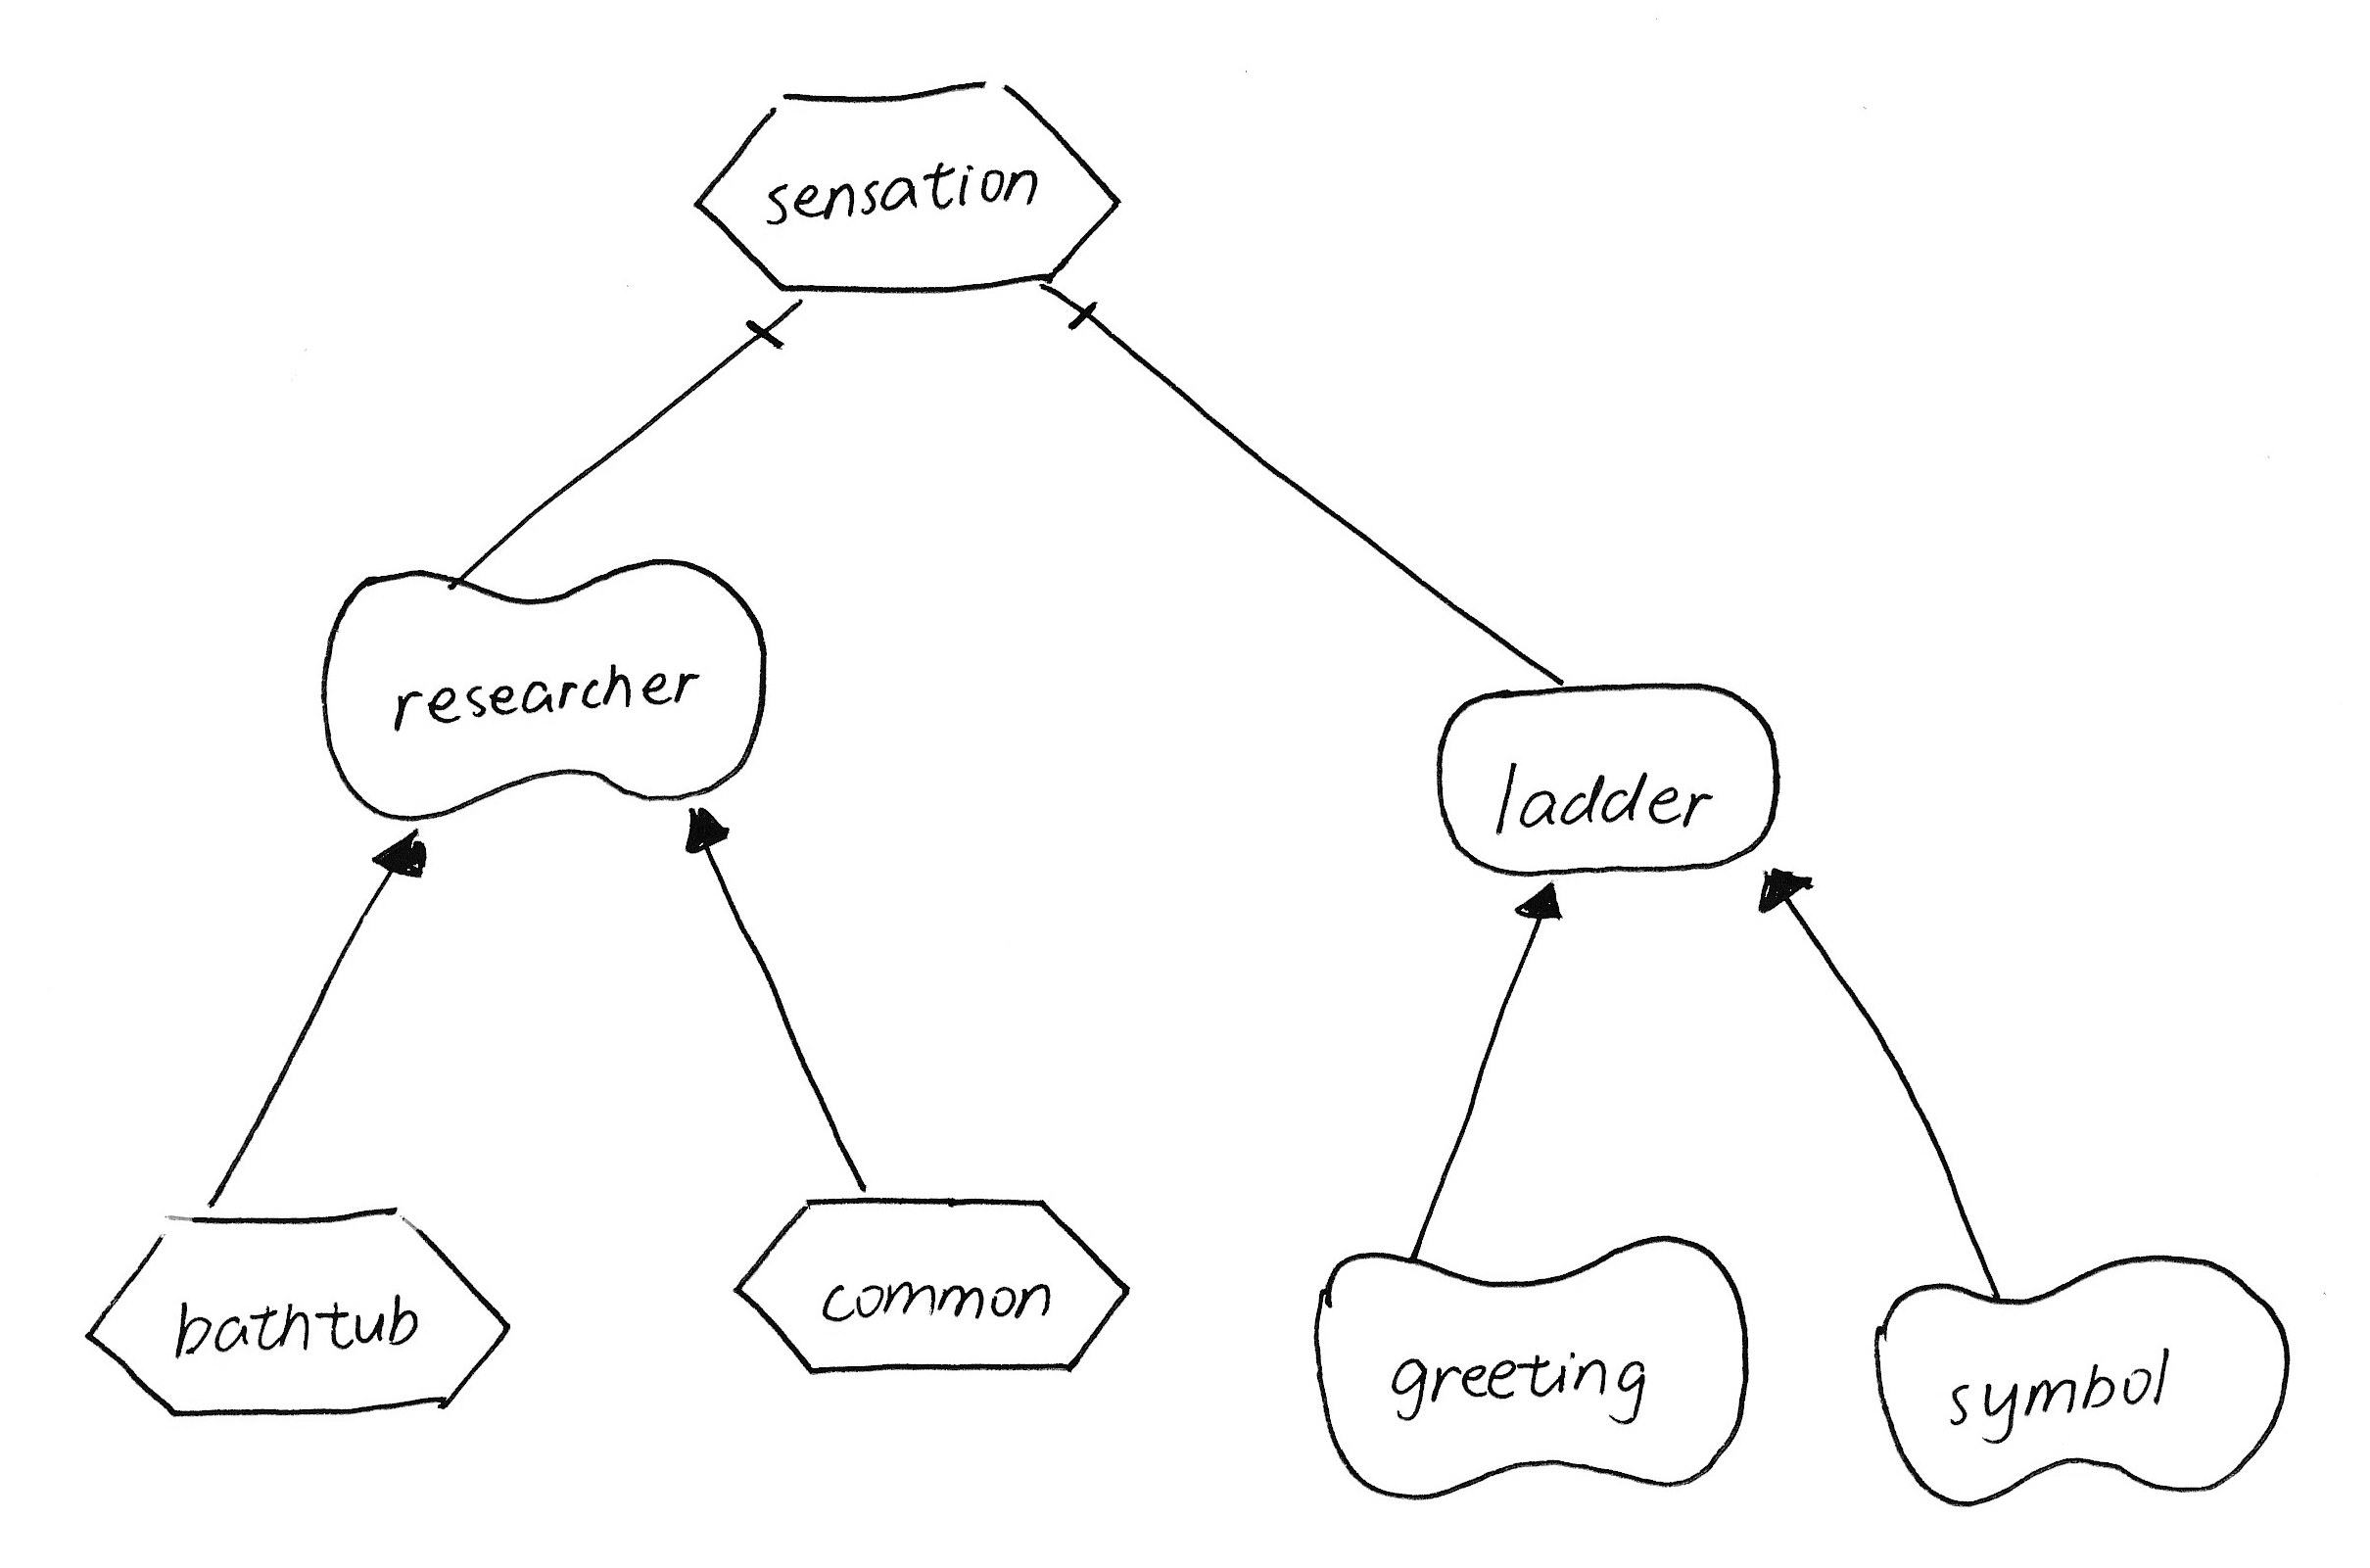and: (1030, 264, 1118, 348), (726, 287, 819, 359)
goal: (1420, 660, 1807, 896)
or: (360, 812, 443, 896), (1735, 850, 1830, 920), (661, 794, 750, 868), (1497, 875, 1581, 936)
quality: (1287, 1211, 1779, 1517), (301, 541, 787, 840), (1852, 1230, 2305, 1522)
task: (675, 61, 1133, 315), (70, 1190, 532, 1433), (714, 1176, 1149, 1388)
